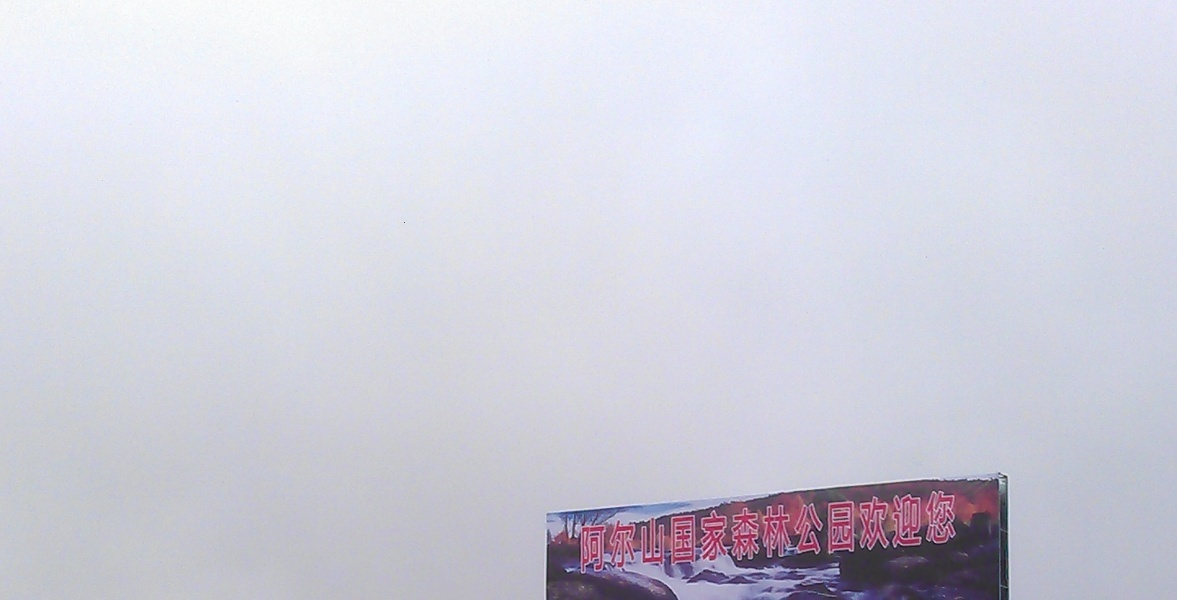text: (593, 489, 608, 574), (609, 489, 624, 574), (625, 489, 640, 574), (641, 489, 656, 574), (657, 489, 672, 574), (673, 489, 688, 574), (689, 489, 704, 574), (705, 489, 720, 574), (721, 489, 736, 574), (737, 489, 752, 574), (753, 489, 768, 574), (769, 489, 784, 574), (785, 489, 800, 574), (801, 489, 816, 574), (817, 489, 832, 574), (833, 489, 848, 574), (849, 489, 864, 574), (865, 489, 880, 574), (881, 489, 896, 574), (897, 489, 912, 574), (913, 489, 928, 574), (929, 489, 944, 574), (578, 489, 592, 574), (945, 489, 957, 574)
